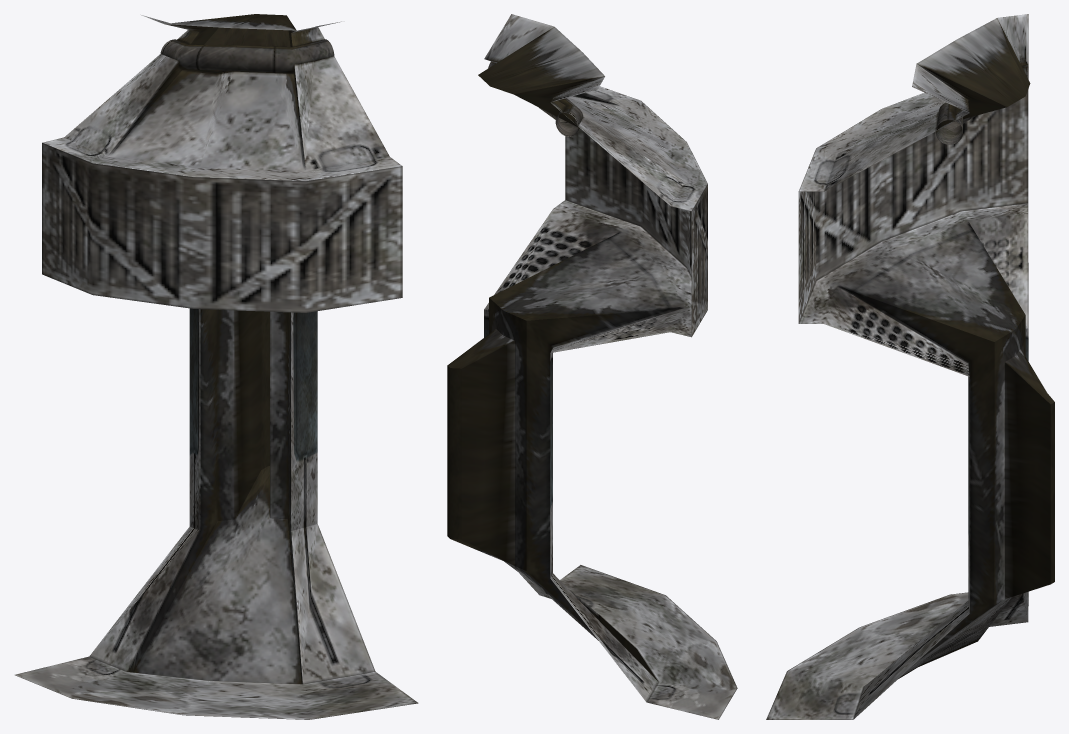
File: strct_WH_Z1_wall_smallouter.fbx
3 views of the same model, side by side, from view 1: azimuth 30°, elevation 25°; view 2: azimuth 150°, elevation 25°; view 3: azimuth 270°, elevation 25° (orthographic). The views are drawn at different scales.
Parts seen in each view (by area): view 1: polySurface261; view 2: polySurface261; view 3: polySurface261.
Boxes of the visible parts, x1,y1,x2,y2 form: polySurface261: (15, 14, 418, 719); polySurface261: (447, 14, 737, 719); polySurface261: (766, 14, 1054, 719).
Size of the model in its own units: 351 by 785 by 318.
